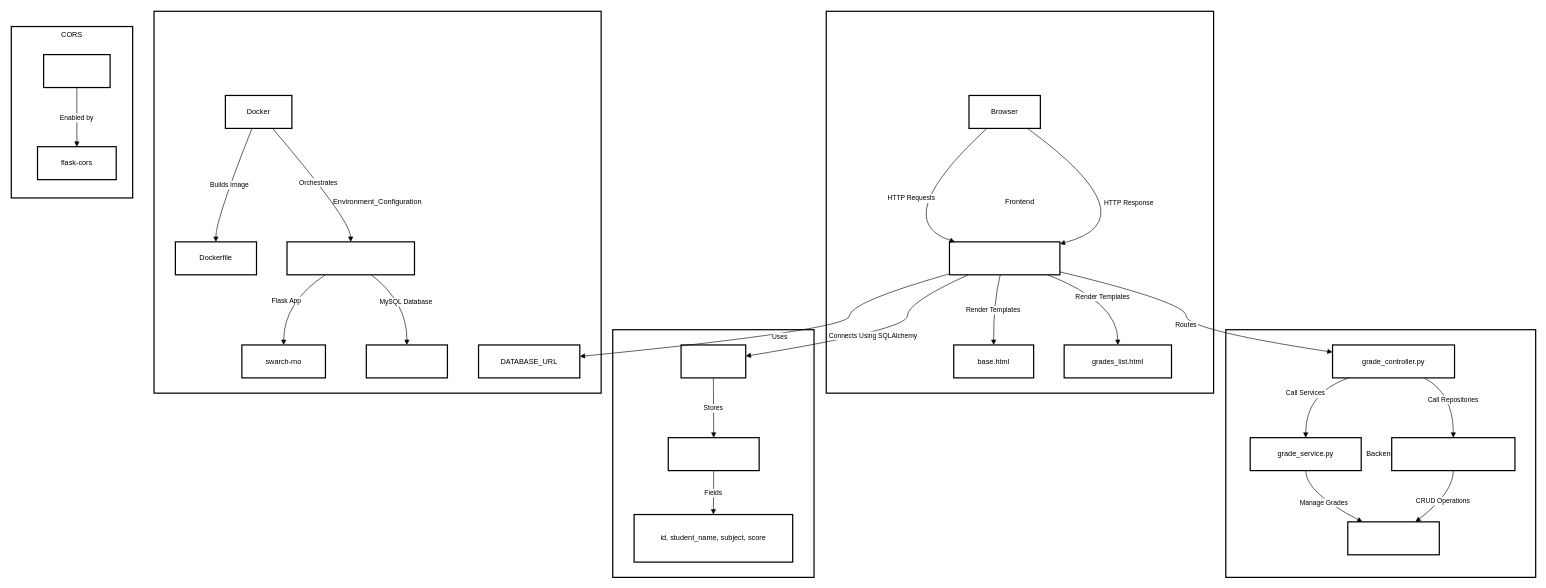
The diagram is 1546 pixels wide and 588 high, and some of its shapes have lost their labels. Here are the shapes that lost their labels. From the top down, the centre of each, then its label:
At point 76,71: "app.py".
At point 350,258: "docker-compose.yml".
At point 1004,258: "Flask Application".
At point 406,361: "swarch-db".
At point 713,361: "MySQL".
At point 713,454: "grades table".
At point 1453,454: "grade_repository.py".
At point 1393,538: "Grade Model".
